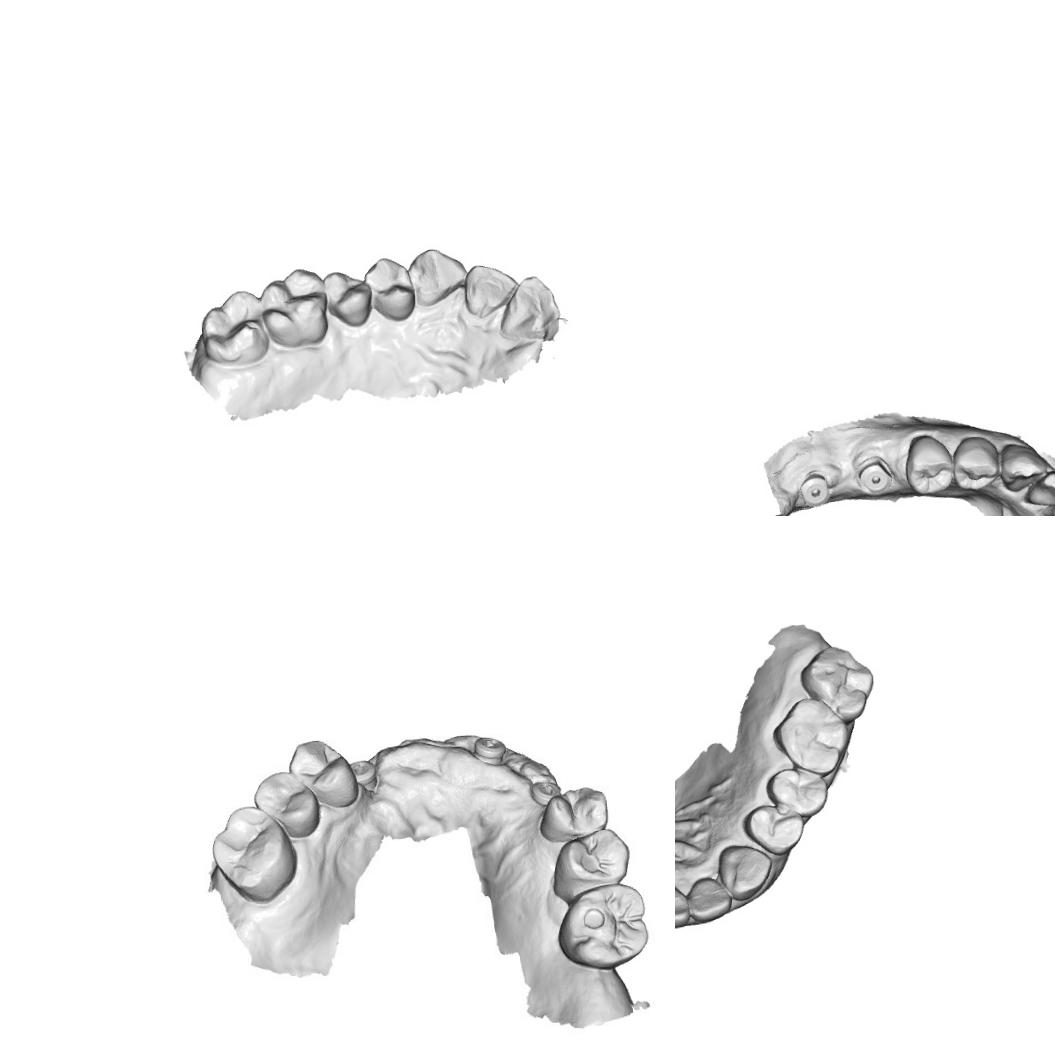canine: (407, 246, 470, 310), (716, 842, 774, 902), (998, 442, 1046, 494)
implant: (528, 769, 568, 810), (471, 729, 510, 771), (855, 456, 894, 495), (350, 752, 382, 792), (798, 472, 832, 509)
incisor: (496, 273, 562, 343), (462, 262, 522, 320), (686, 875, 734, 925), (1022, 468, 1055, 511), (675, 875, 691, 933)
molar: (204, 806, 302, 908), (550, 883, 652, 973), (770, 695, 852, 778), (798, 644, 877, 725), (258, 266, 330, 348), (199, 287, 272, 364)
premolar: (542, 830, 634, 904), (286, 730, 362, 812), (254, 769, 323, 842), (538, 784, 616, 842), (362, 256, 417, 324), (742, 802, 806, 858), (902, 434, 957, 496), (764, 767, 829, 819), (949, 433, 1004, 494), (322, 268, 374, 328)
